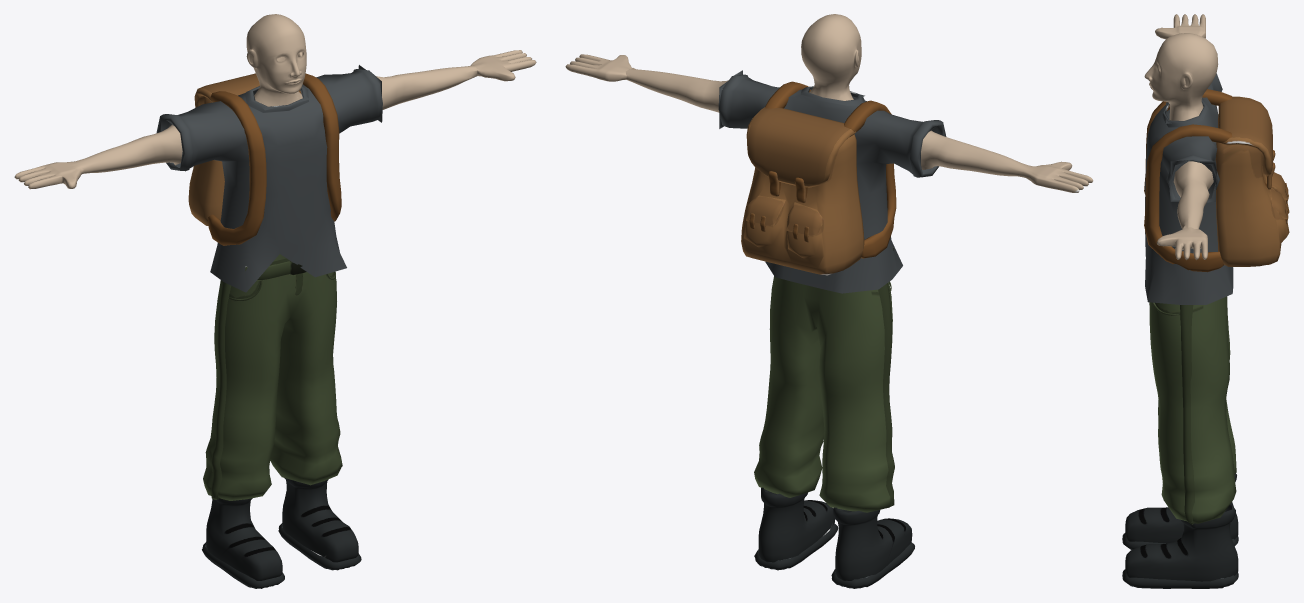
File: folk-male-01-final.fbx
The picture shows the model from 3 angles, left to right: view 1: azimuth 30°, elevation 25°; view 2: azimuth 150°, elevation 25°; view 3: azimuth 270°, elevation 25°; orthographic projection. The views are drawn at different scales.
Visible parts, largest first — view 1: straps02; view 2: straps02; view 3: straps02.
Part boxes in pixels (x1,y1,x2,y2): straps02: (14,14,536,588); straps02: (565,14,1093,588); straps02: (1122,14,1289,588).
Bounding box in the file's own units: 168 × 170 × 48.8.
